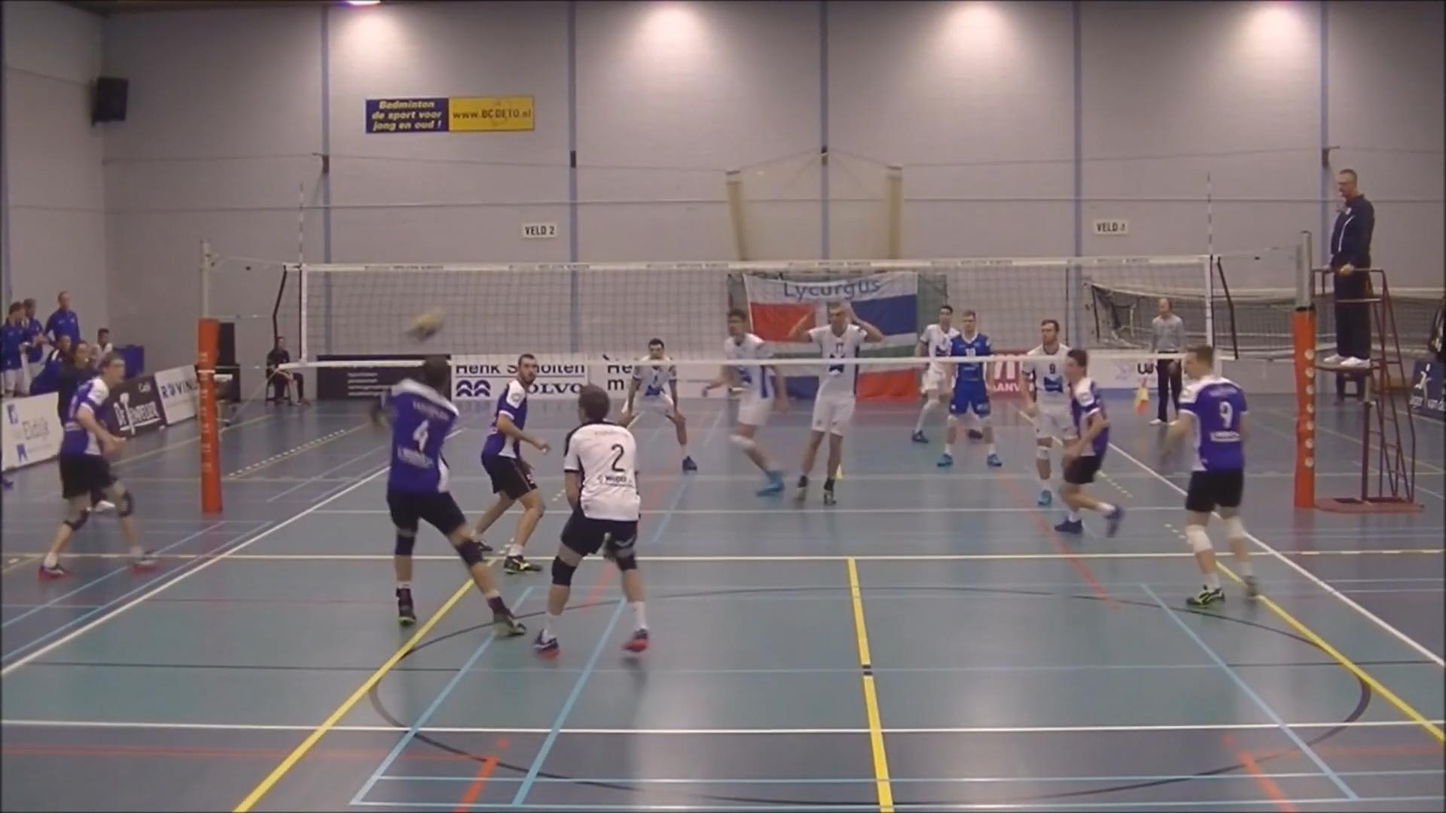ricezione: (365, 345, 545, 647)
